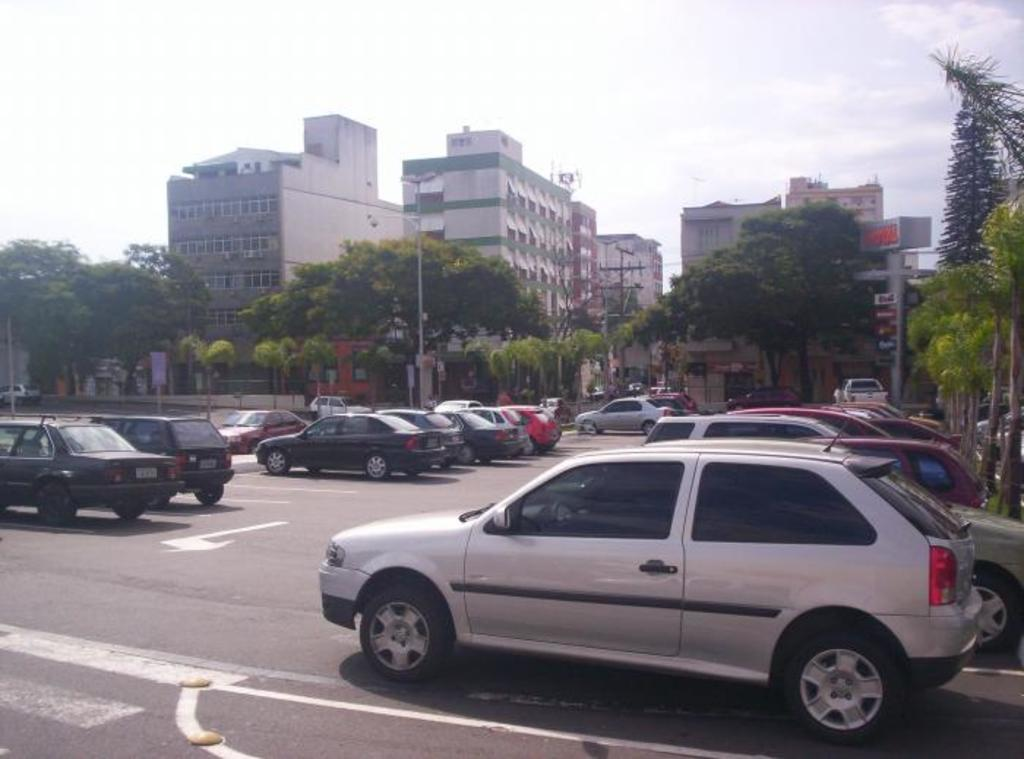cars: (0, 374, 1022, 741)
